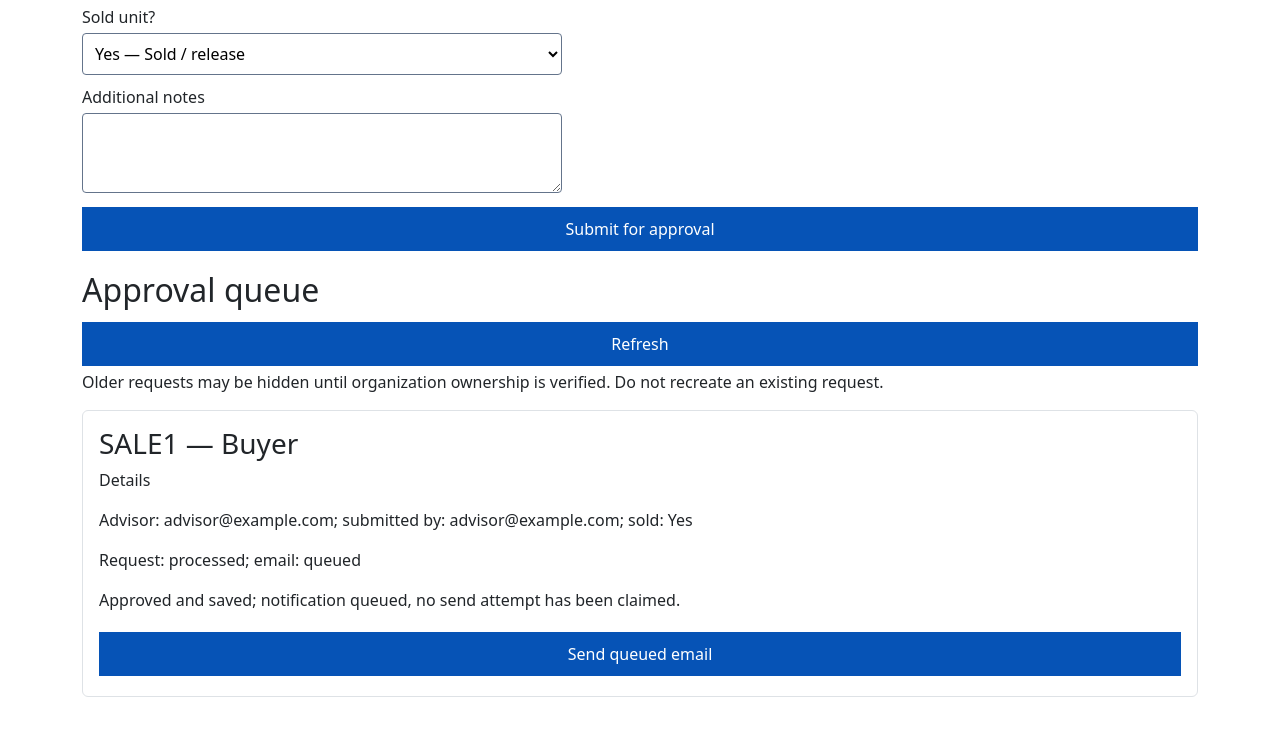
Test: lost POST response requires explicit successful refresh and never repeats send
(page scrolled)
What coordinates should you click on to do the following:
click the button "Send queued email"
I would click on:
 (640, 654)
Its box is x1=99 y1=632 x2=1181 y2=676.
(page scrolled)
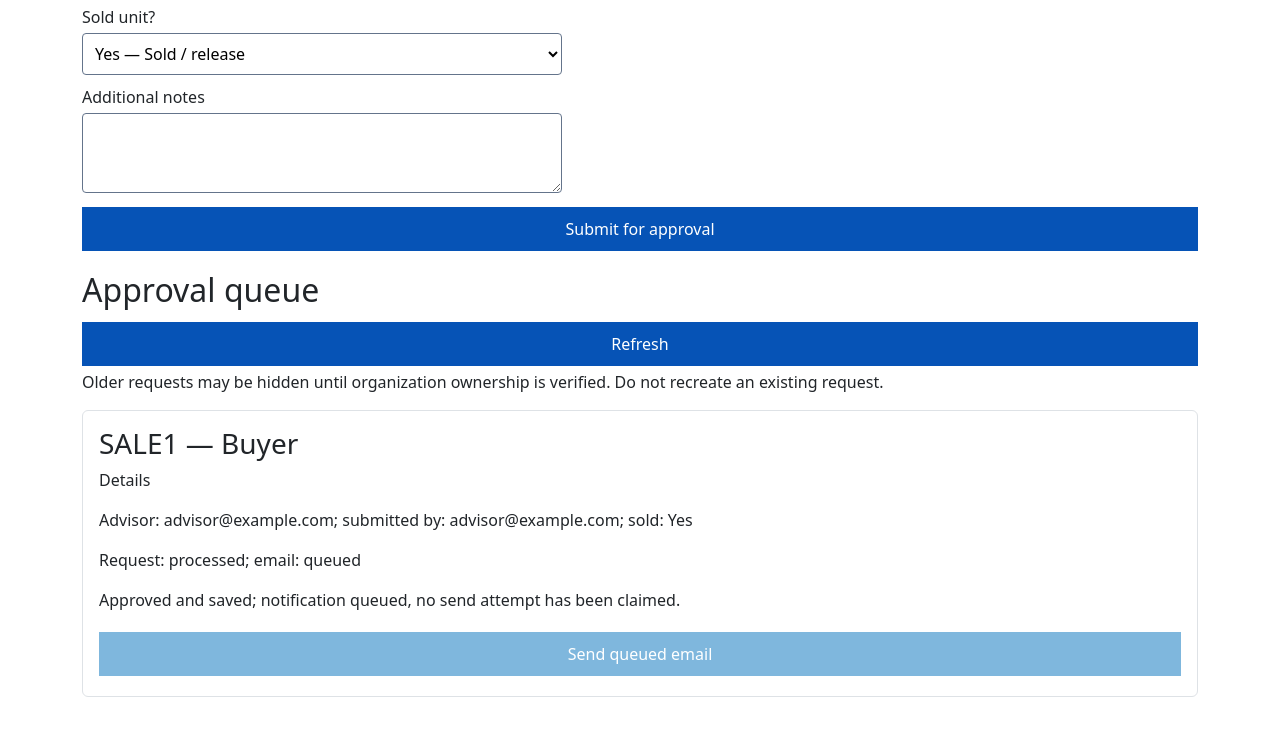
Check: the button "Send queued email" is disabled, box x1=99 y1=632 x2=1181 y2=676
What coordinates should you click on to do the following:
click the button "Refresh"
I would click on:
 (640, 344)
Its box is x1=82 y1=322 x2=1198 y2=366.
(page scrolled)
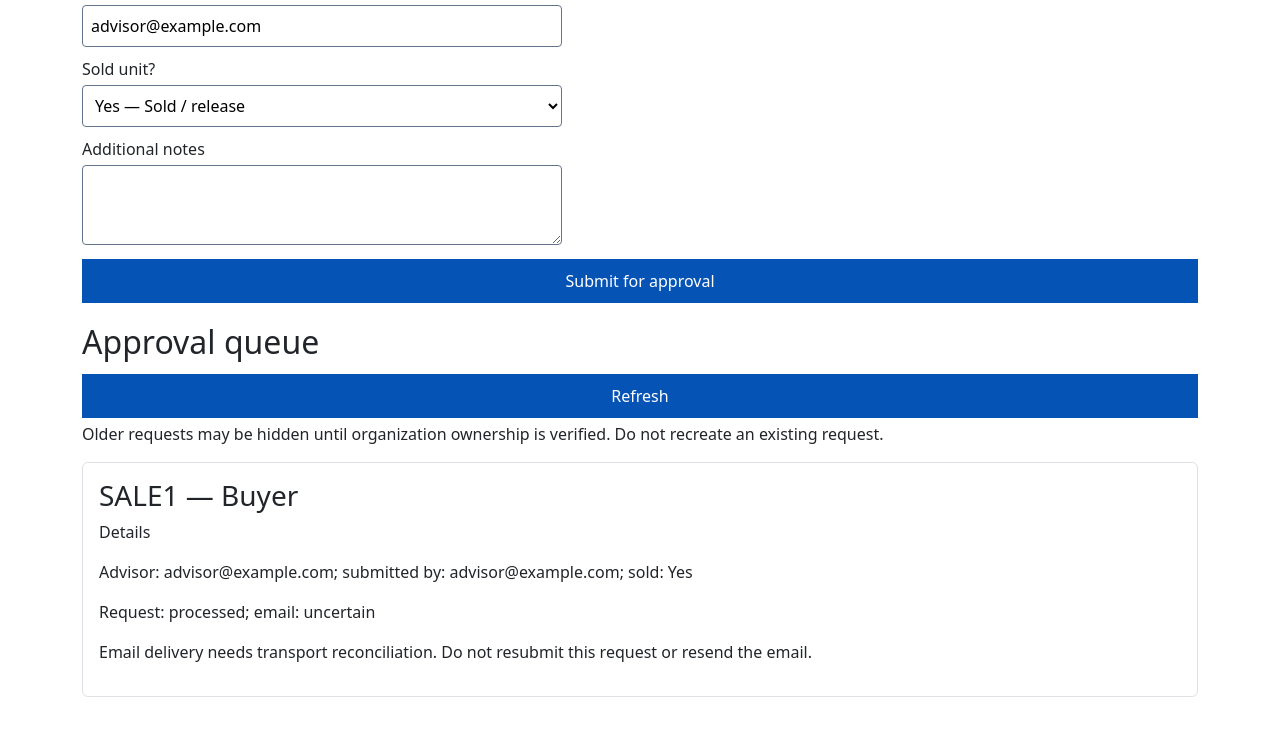
Check: the text "Request: processed; email: uncertain" is shown, box x1=99 y1=601 x2=375 y2=623
Check: the button "Send queued email" is gone
